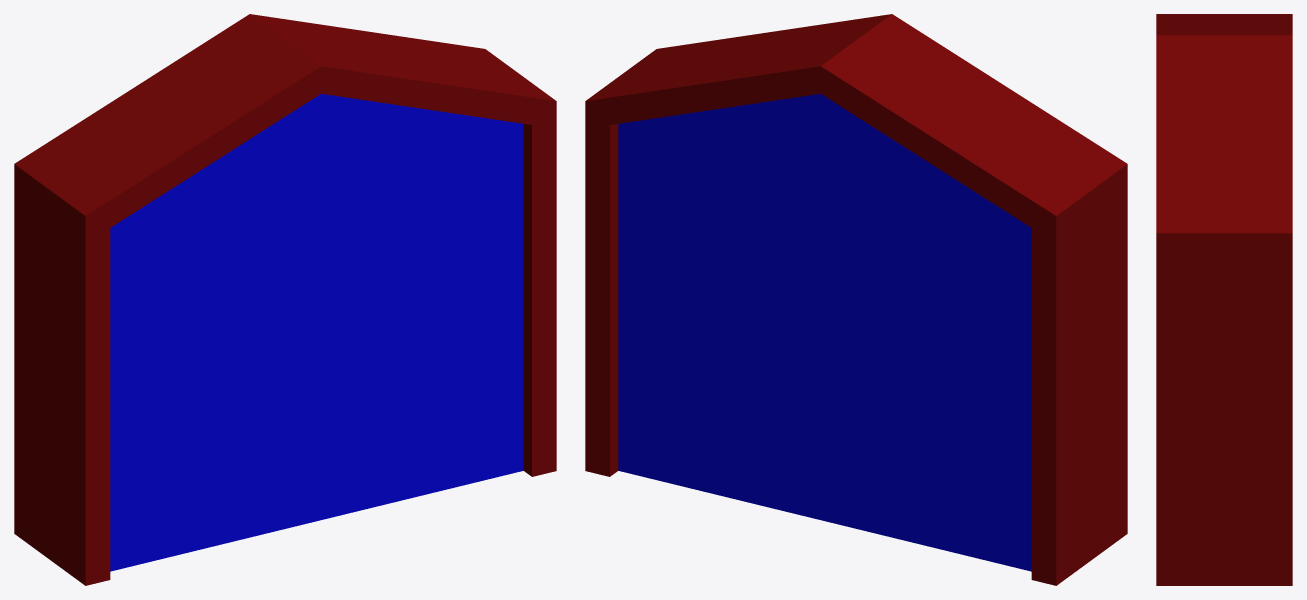
File: FBX_WallGate.fbx
3 renders of one model, left to right at view 1: azimuth 30°, elevation 25°; view 2: azimuth 150°, elevation 25°; view 3: azimuth 270°, elevation 25°, orthographic. The views are drawn at different scales.
Parts seen in each view (by area): view 1: WallGate; view 2: WallGate; view 3: WallGate.
Part boxes in pixels (box(x1,y1,x2,y2)): WallGate: box(14, 14, 556, 585); WallGate: box(585, 14, 1127, 585); WallGate: box(1156, 14, 1292, 585).
Bounding box in the file's own units: 160 × 150 × 42.
